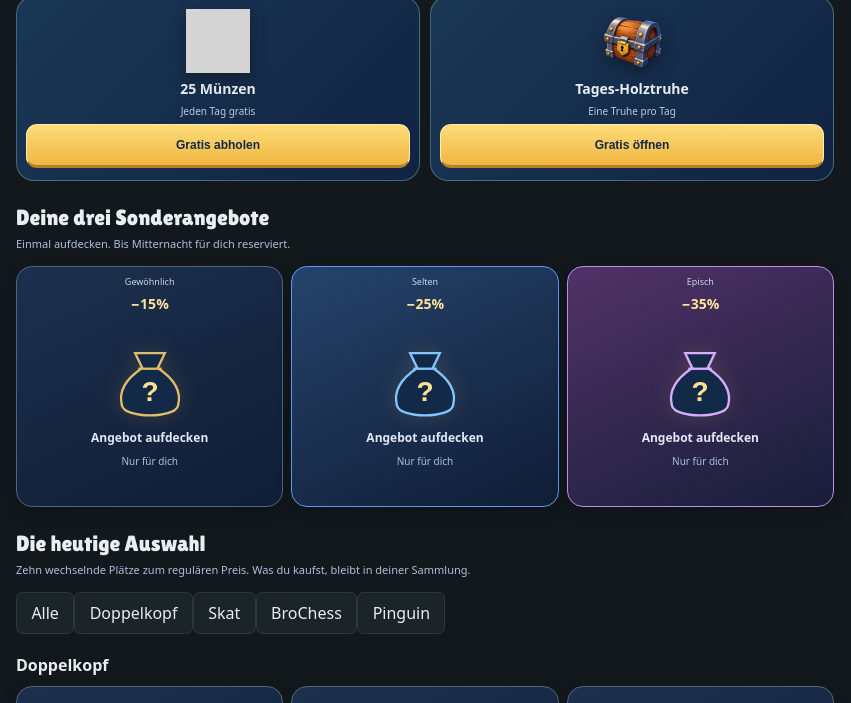
Test case: Persönlicher Tages-Shop › verdeckt alle drei Sonderangebote und deckt genau das gewählte ohne Kauf auf
(page scrolled)
Click the button "? Angebot aufdecken Nur für dich" below "Episch": (700, 406) [576,314,825,498]
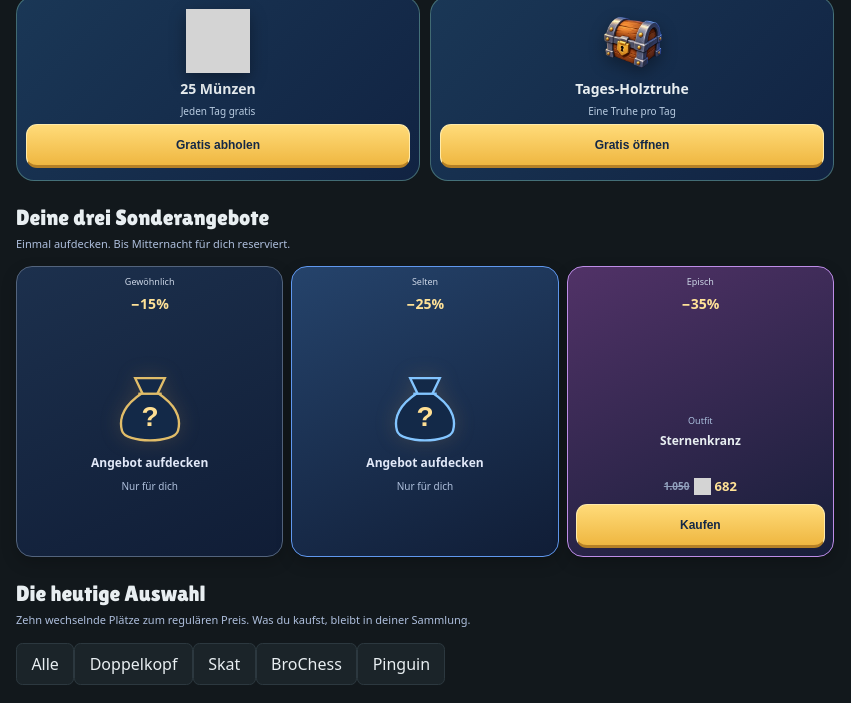
Now the number of buttons "? Angebot aufdecken Nur für dich" is 2, box [25,314,274,548]; [300,314,550,548]
